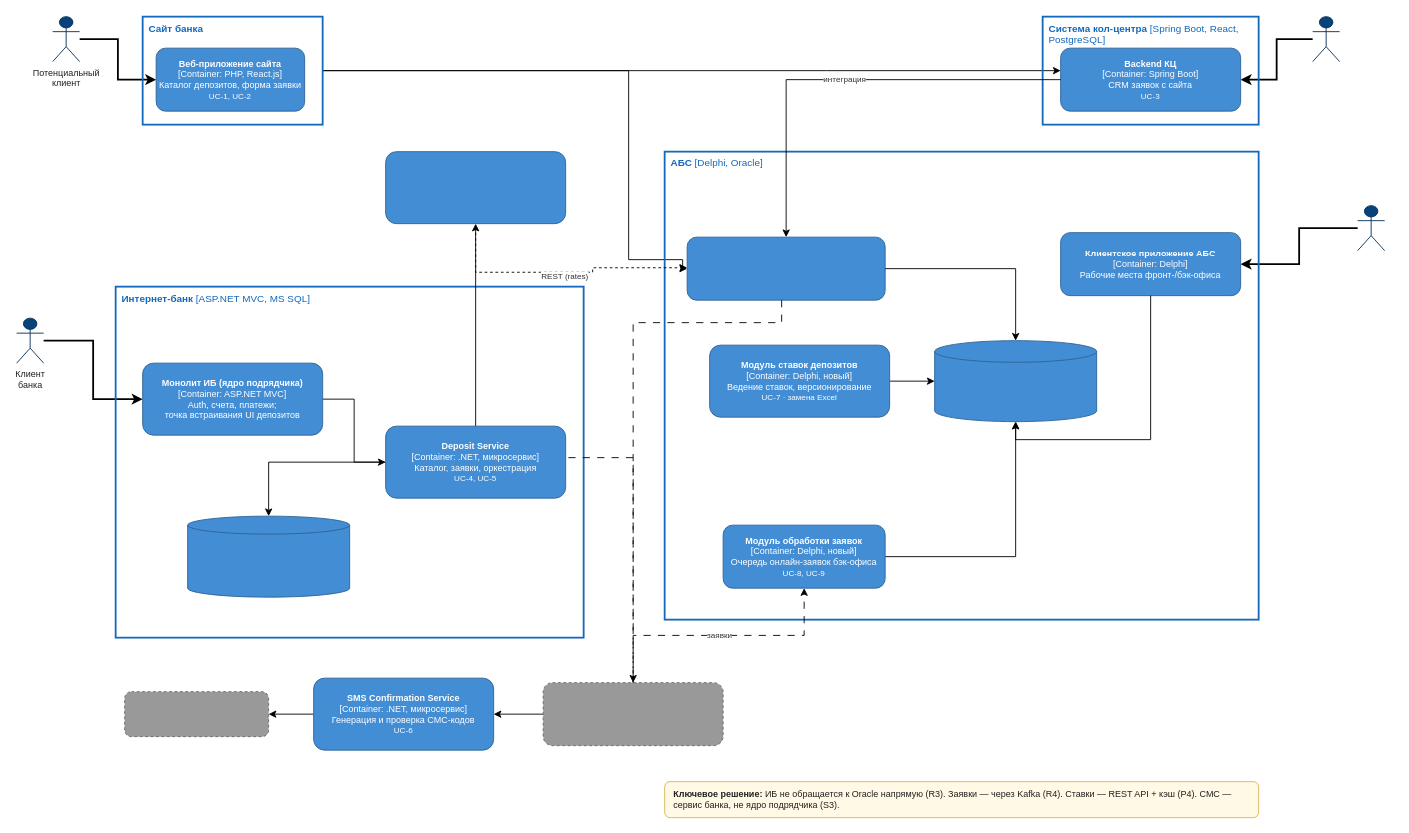
Some shapes in this 1409 by 833 pixel diagram are drawn without their labels. Here are the shapes that lost their labels. From the top down, the centre of each, then its label:
At point 1326,39: "Оператор КЦ".
At point 475,187: "Rates Cache [Container: Redis] Кэш ставок и продуктов P4".
At point 1371,228: "Бэк-офис депозитов".
At point 785,268: "ABS Integration Adapter [Container: Spring Boot] REST API ставок; consumer Kafka".
At point 1015,381: "БД АБС [Container: Oracle] Клиенты, счета, депозиты, ставки, заявки".
At point 268,556: "БД интернет-банка [Container: MS SQL] Данные монолита, статусы заявок".
At point 196,714: "СМС-шлюз [External System]".
At point 632,714: "Брокер сообщений Kafka +R4 · целевой брокер".
